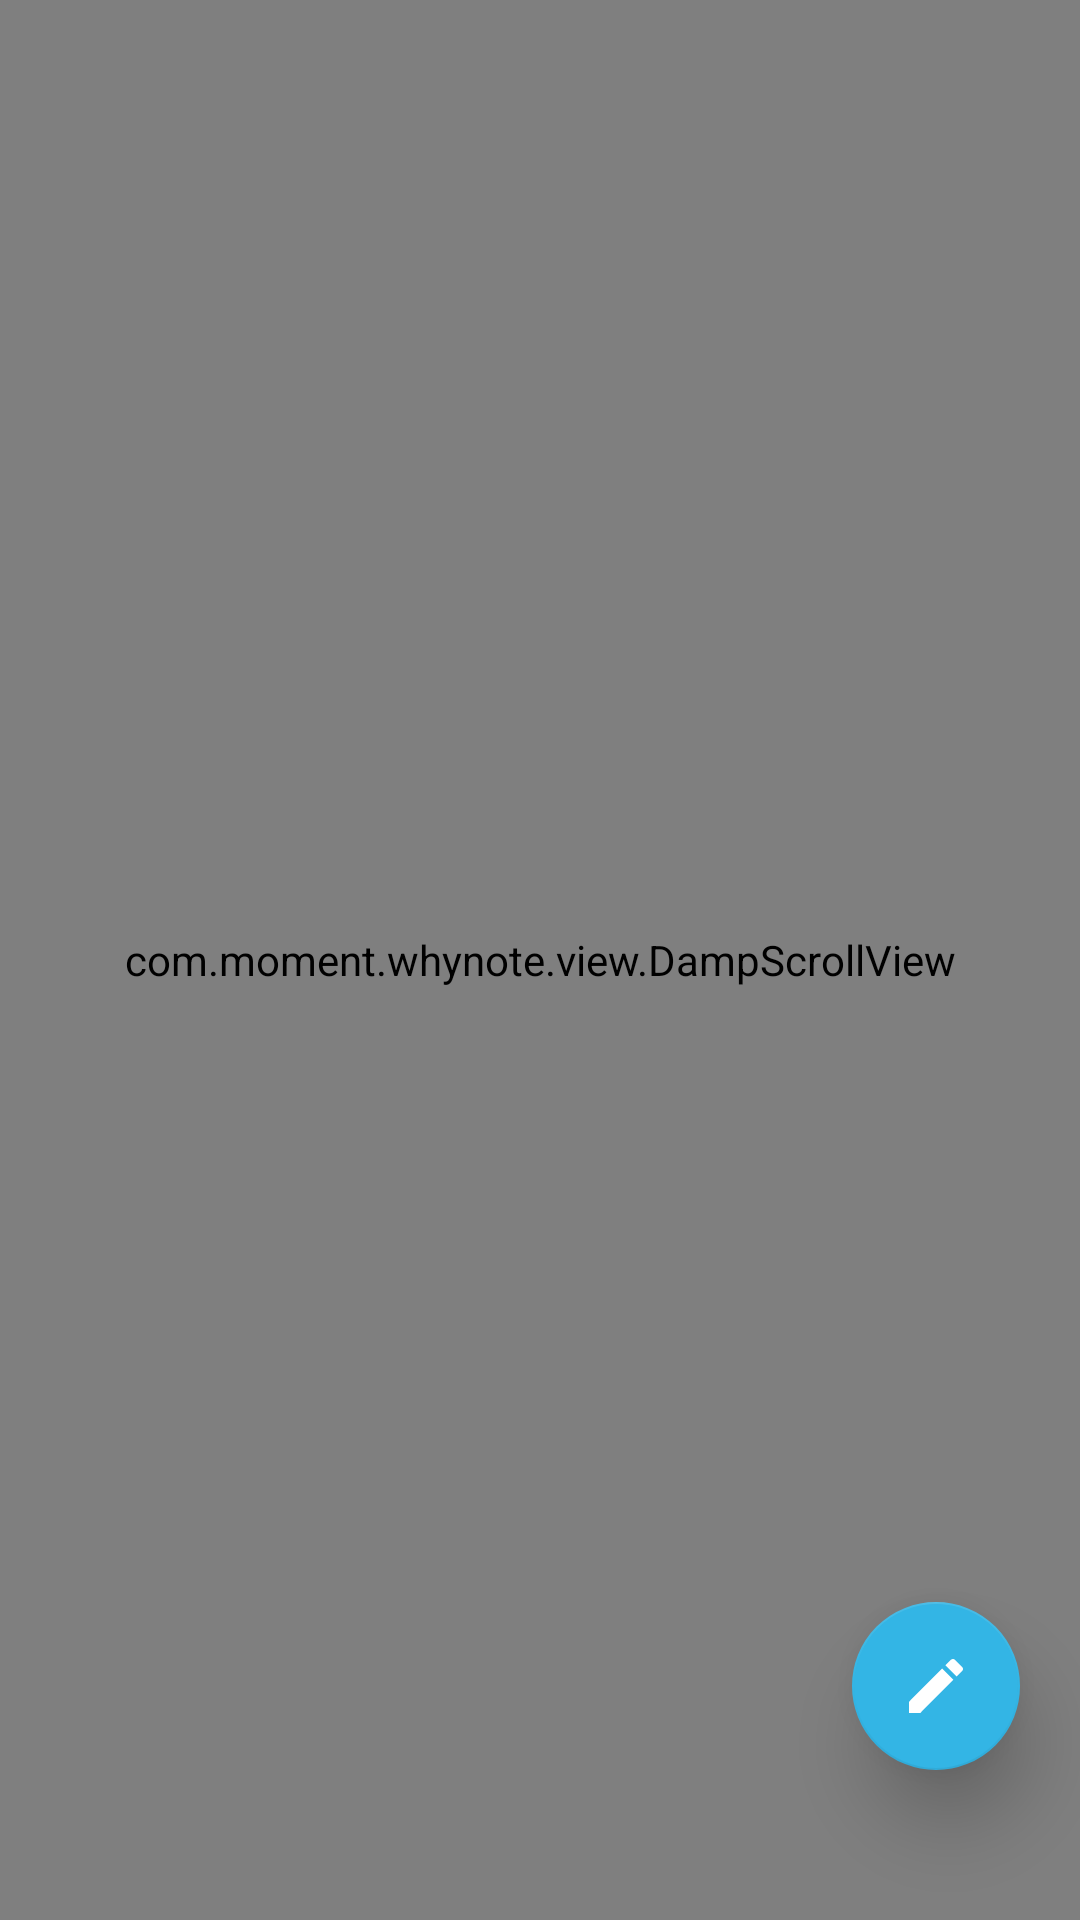

Icon click points for this 1080*1920 phone screenshot, format [x,y]:
悬浮操作按钮: [936,1686]
